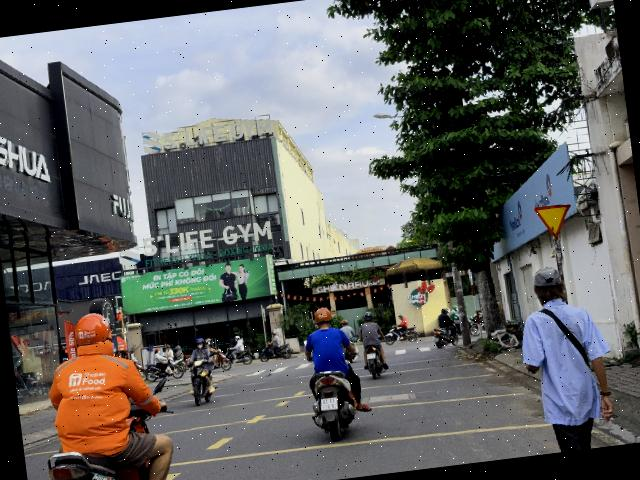giao-nhau-voi-duong-uu-tien: (532, 203, 574, 241)
